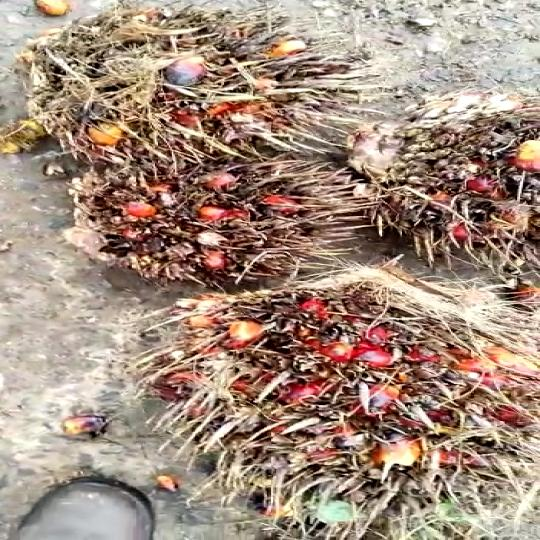terlalu masak: (119, 263, 540, 540), (0, 6, 341, 170), (63, 150, 388, 282)
